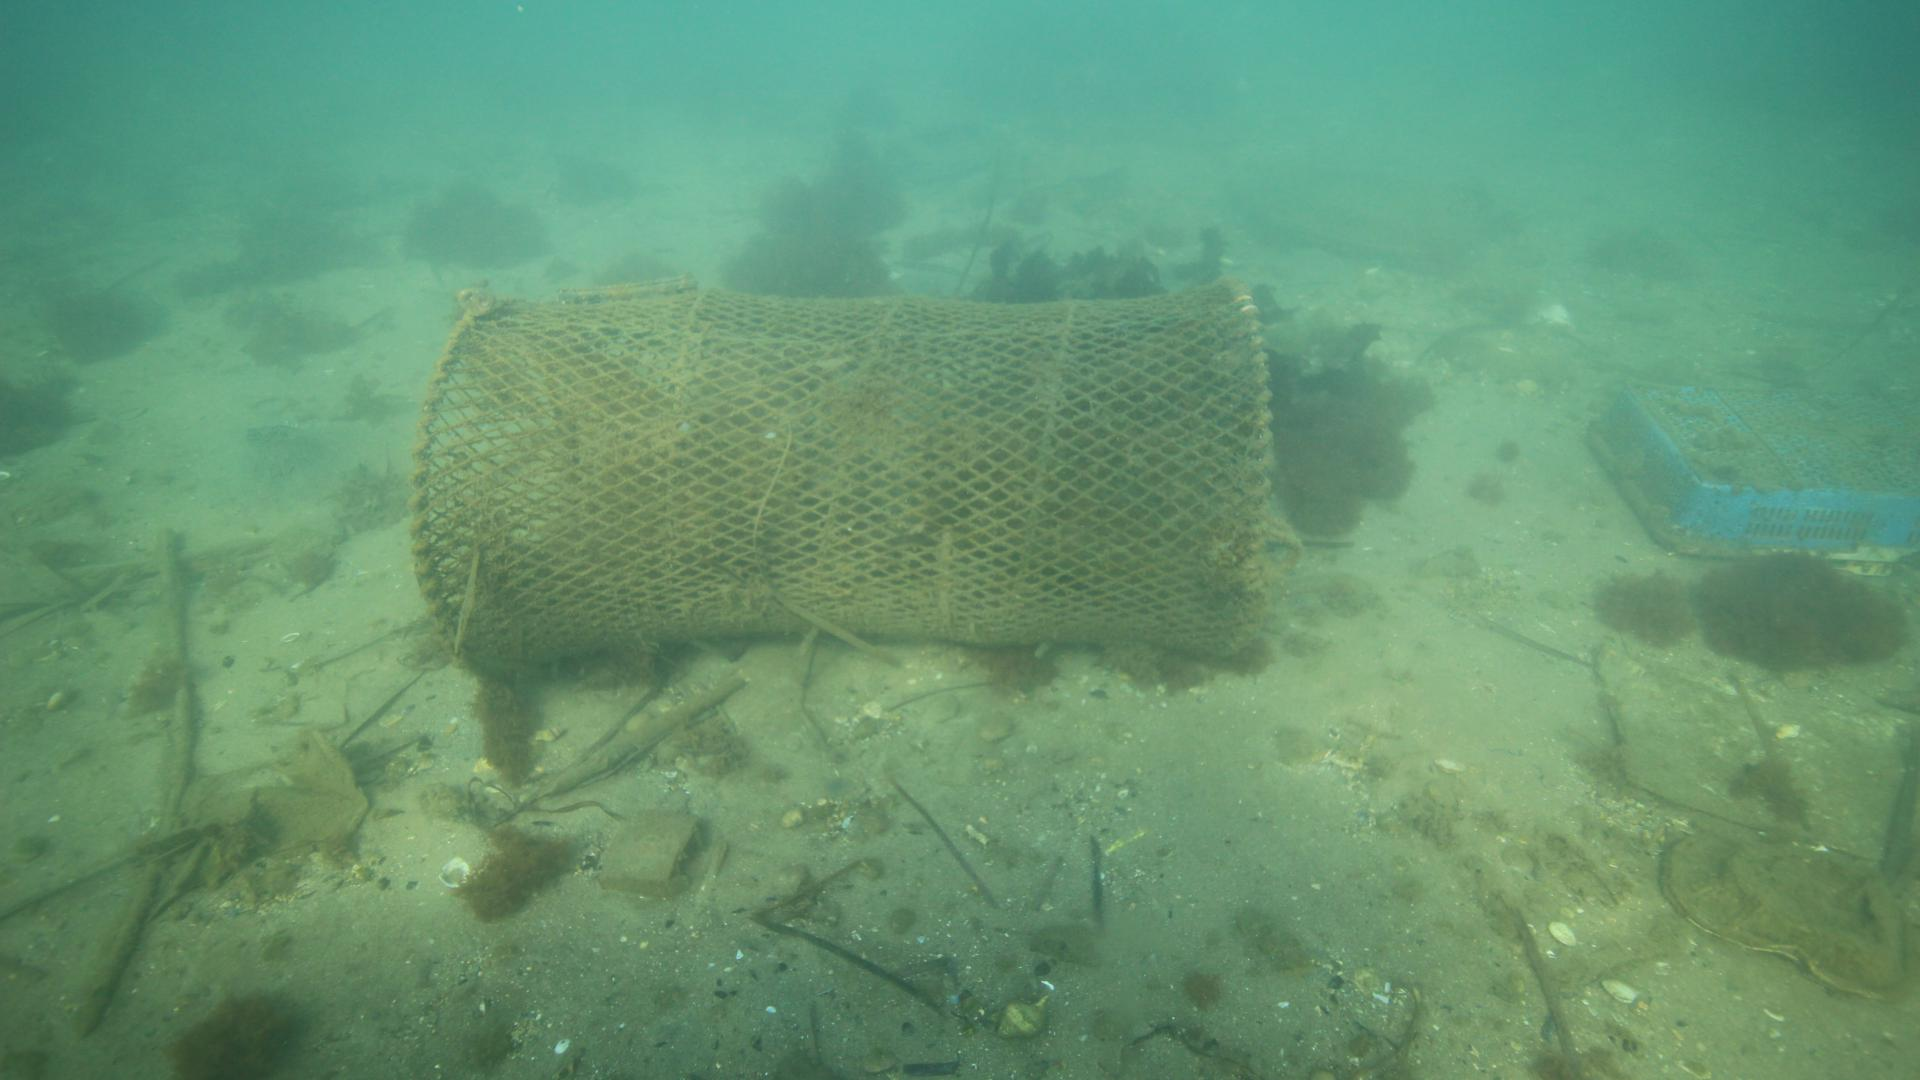spring fish trap: (406, 272, 1273, 682)
